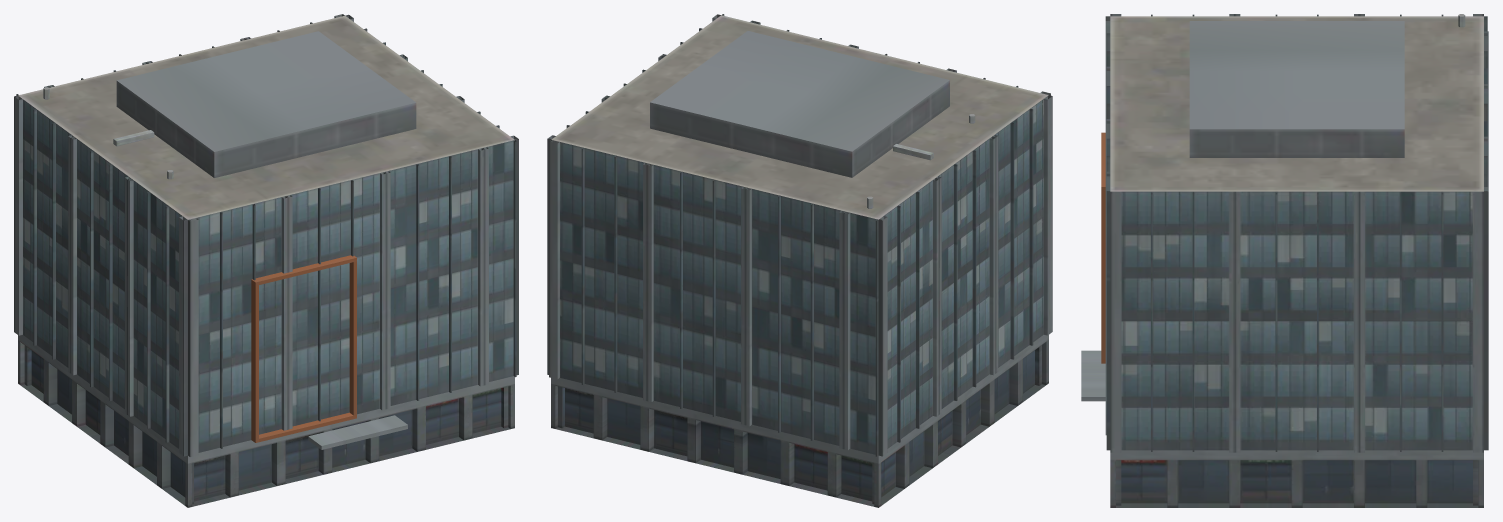
File: sf_midrise_c.glb
The picture shows the model from 3 angles, left to right: view 1: azimuth 30°, elevation 25°; view 2: azimuth 150°, elevation 25°; view 3: azimuth 270°, elevation 25°; orthographic projection. The views are drawn at different scales.
Parts seen in each view (by area): view 1: sf_midrise_c; view 2: sf_midrise_c; view 3: sf_midrise_c.
Boxes of the visible parts, x1,y1,x2,y2 form: sf_midrise_c: (14, 14, 518, 507); sf_midrise_c: (547, 14, 1052, 507); sf_midrise_c: (1081, 14, 1488, 507).
Size of the model in its own units: 34.8 by 31.2 by 33.4.
1 material, 1 textured.
